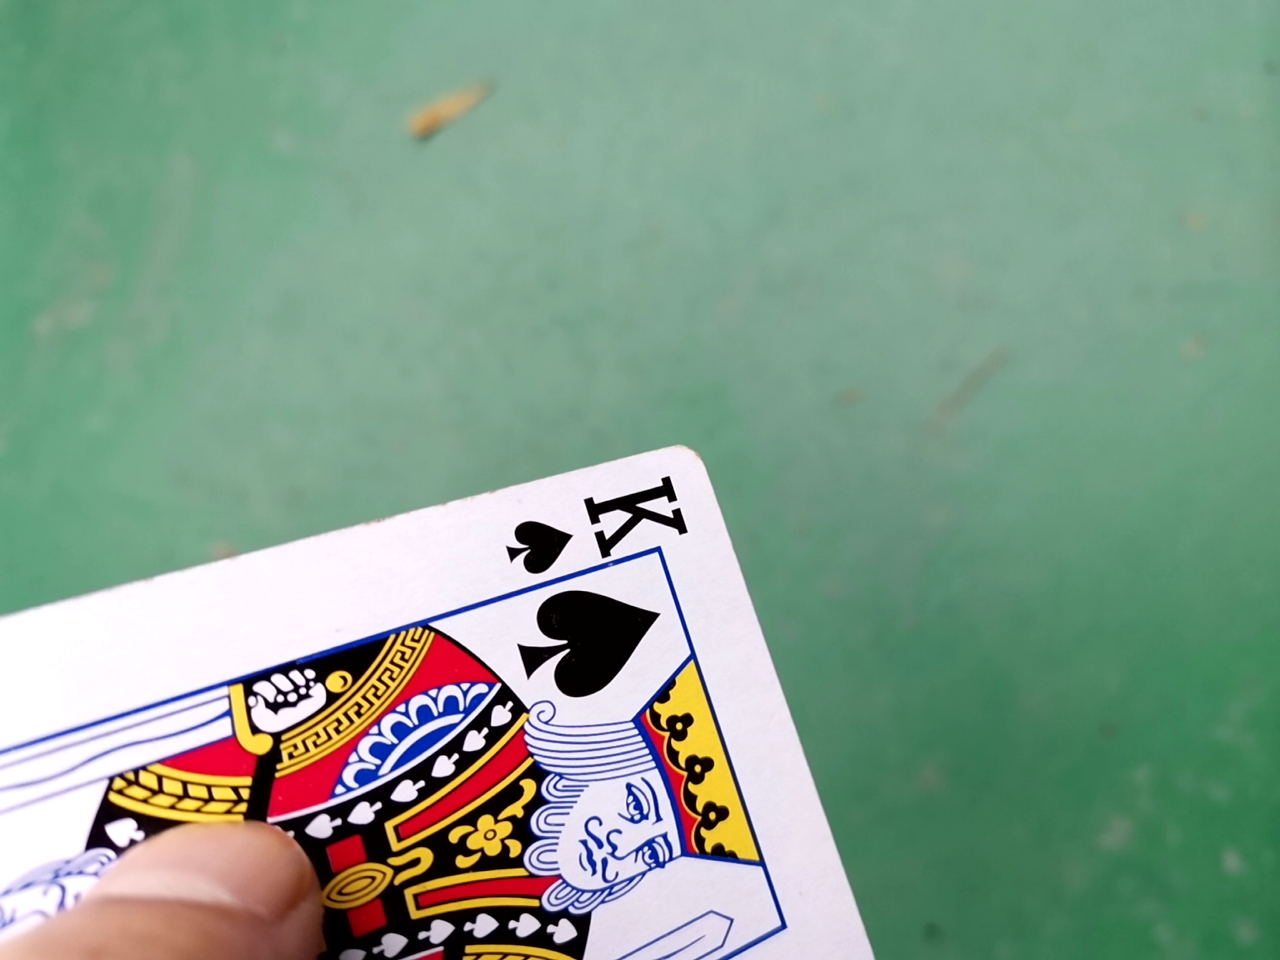ht k: (10, 445, 932, 954)
